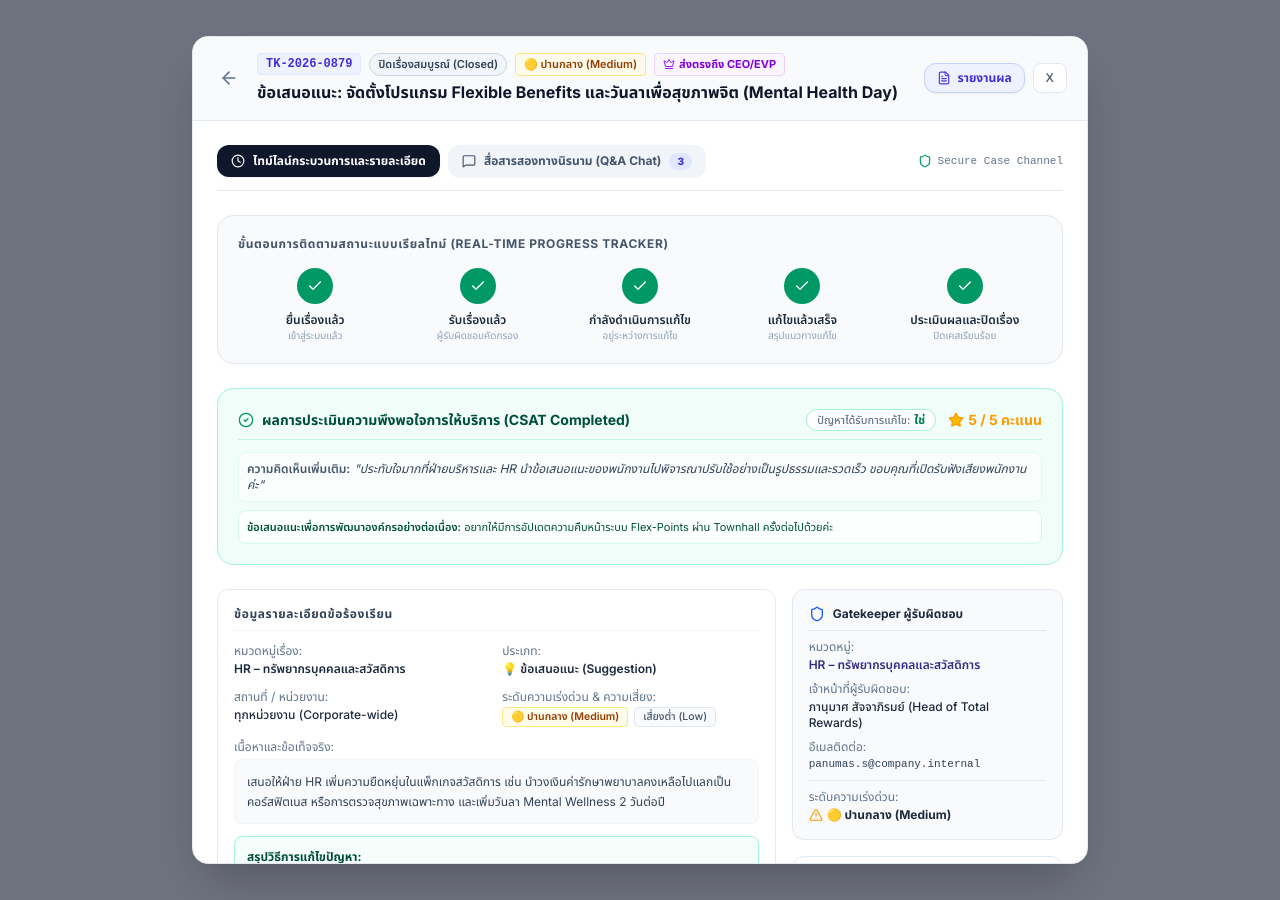
Test: TrackingTimelineModal › says so when a chat message fails to send and keeps the typed text
Click the button with id "tab-btn-chat": coordinates (577, 161) [448,144,706,178]
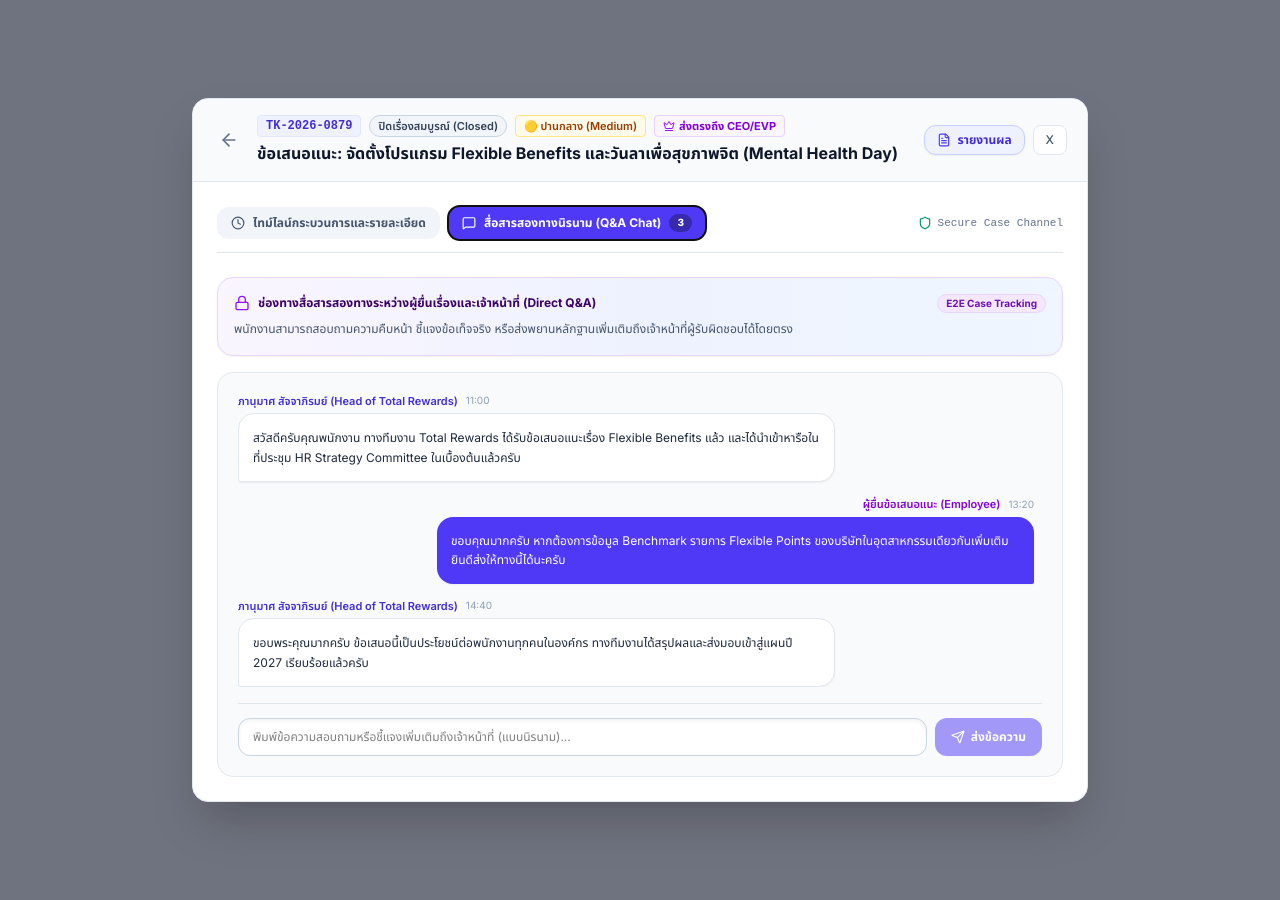
In the field with id "input-anonymous-chat": coordinates (582, 737) [238,718,927,756], type "ขอชี้แจงเพิ่มเติม"
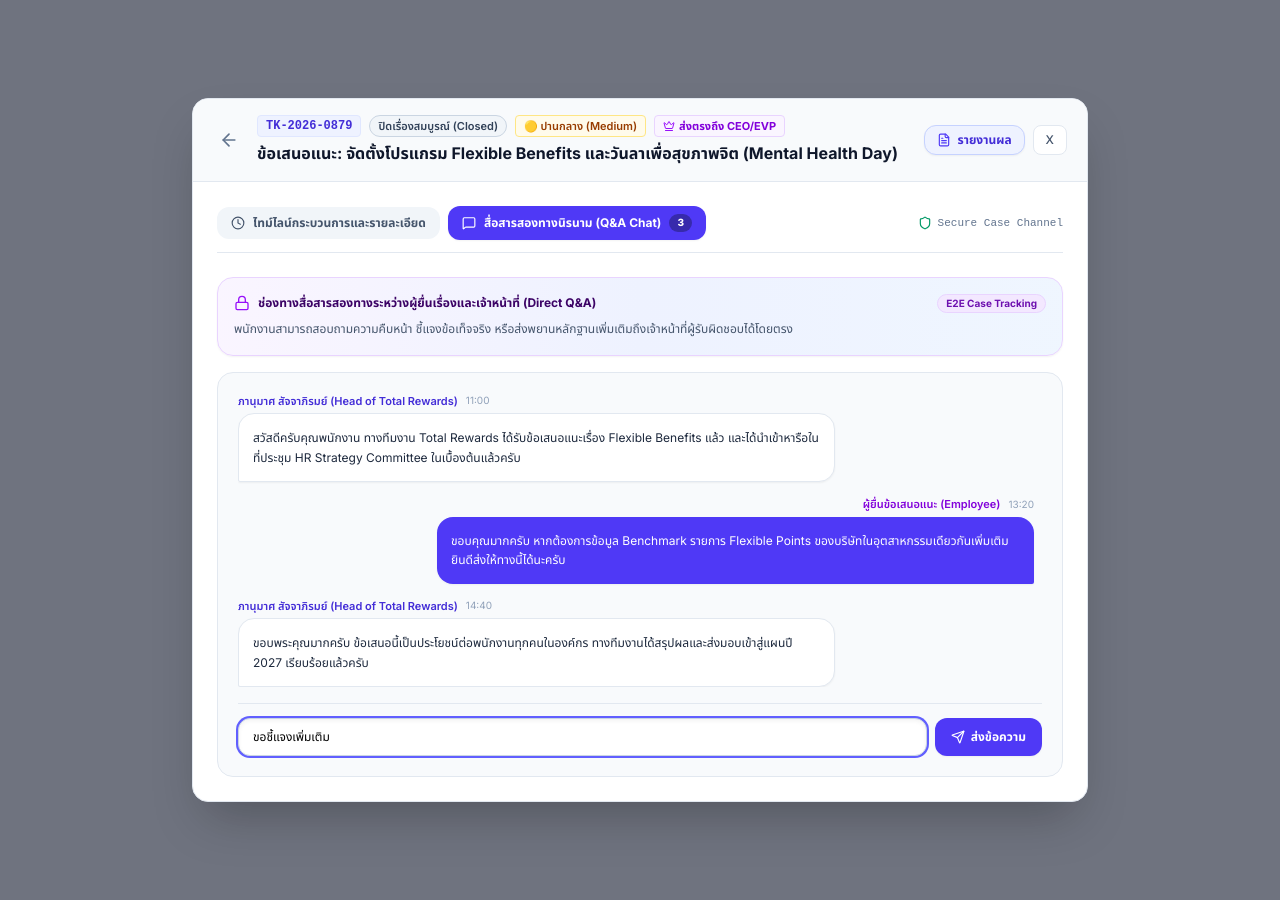
Click the button with id "btn-send-anonymous-chat": coordinates (988, 737) [935,718,1042,756]
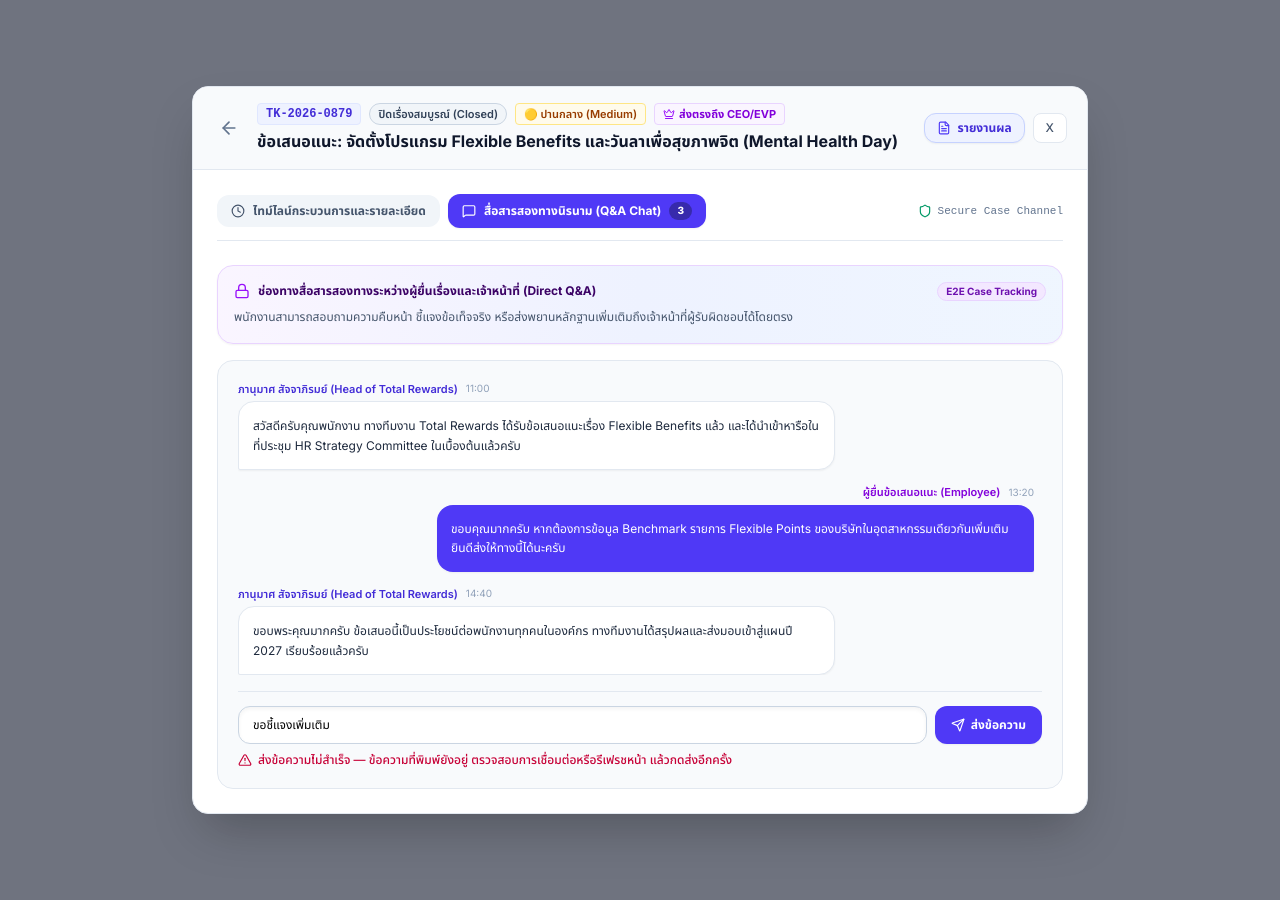
Result: the message shows "ส่งข้อความไม่สำเร็จ" at [258,752,732,767]
Click the button with id "btn-send-anonymous-chat": coordinates (988, 725) [935,706,1042,744]
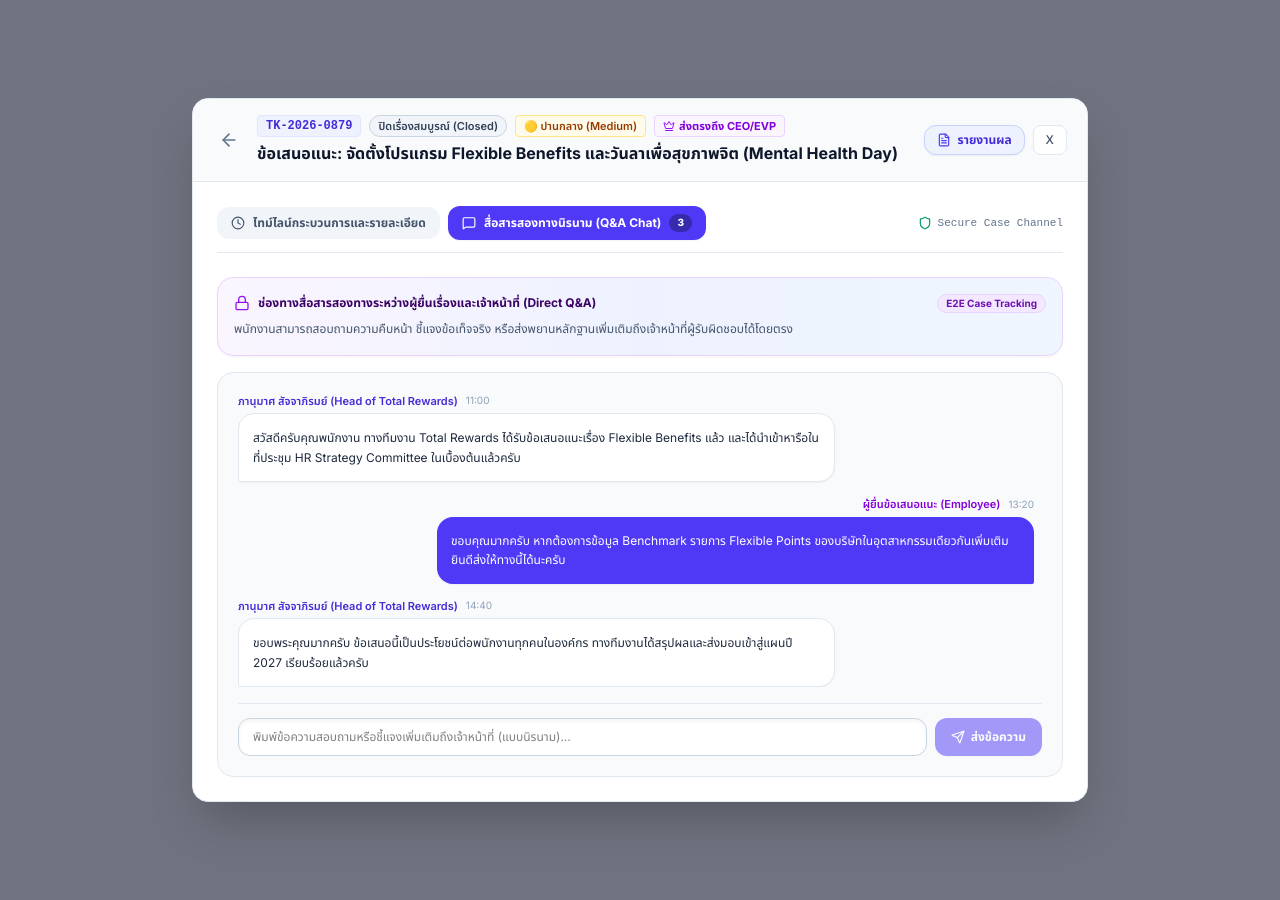
Result: the message with id "chat-send-error" is gone
